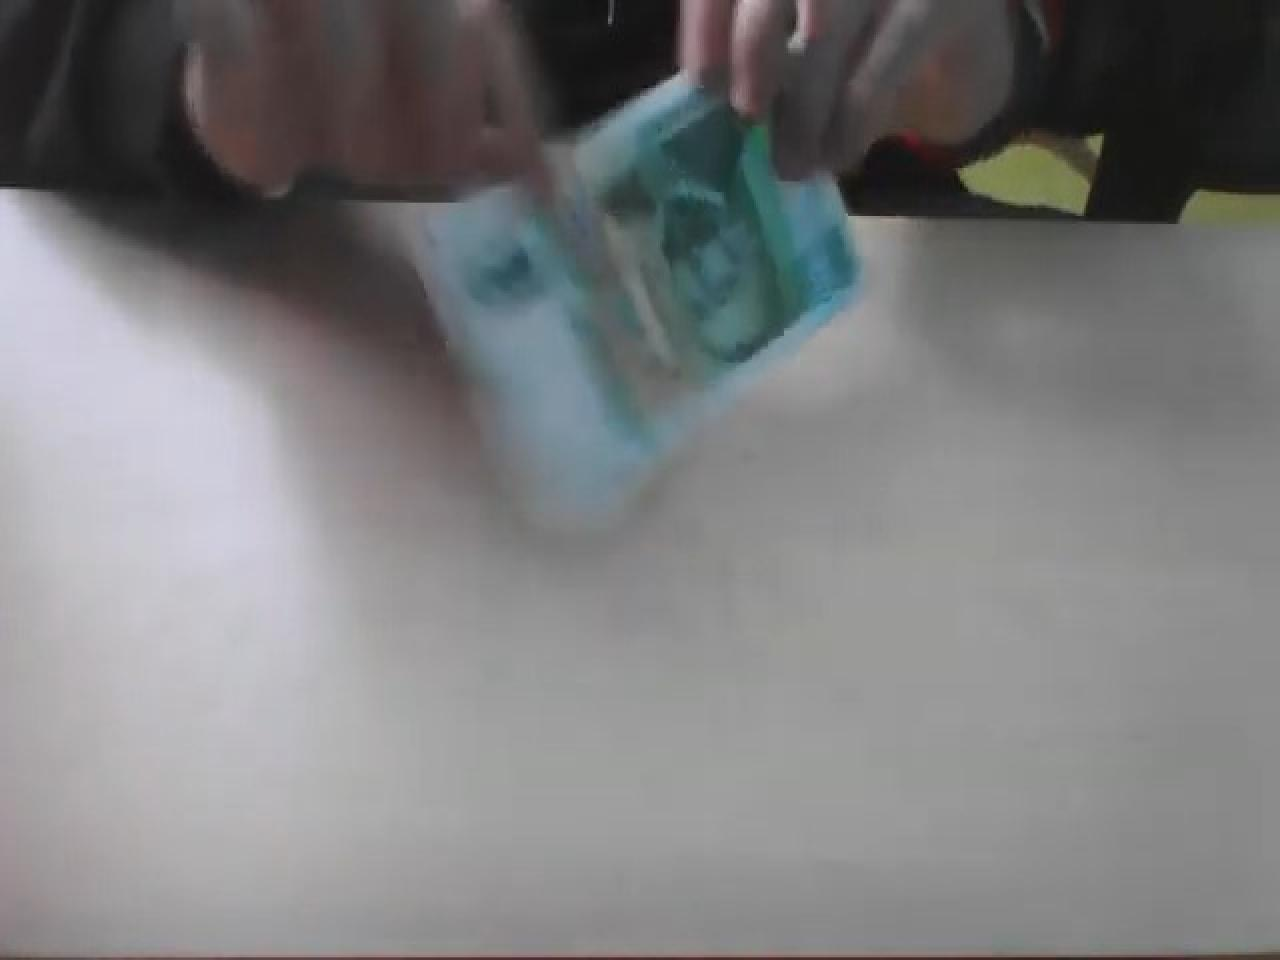100leva: (366, 72, 864, 542)
